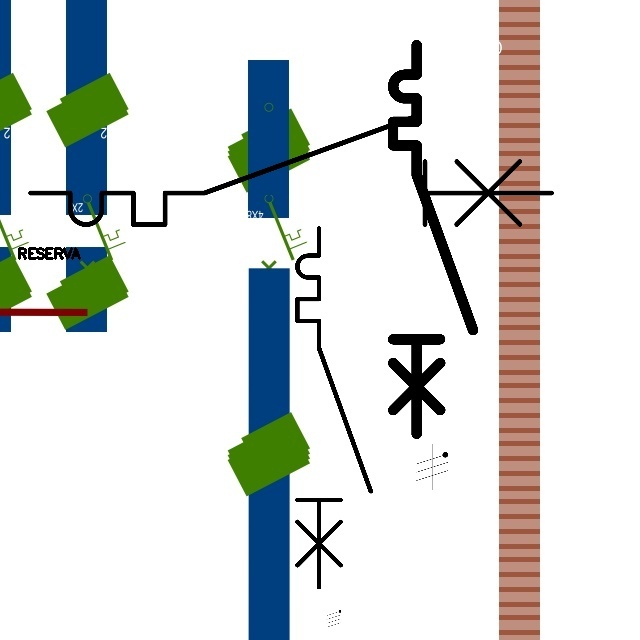interruptor_termomagnetico: (17, 104, 564, 238), (383, 35, 483, 443), (288, 219, 380, 596)
